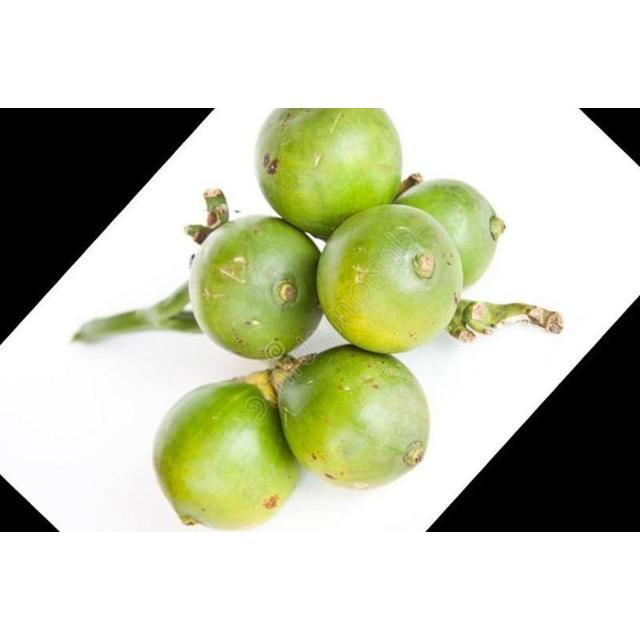good: (314, 206, 464, 356), (272, 355, 438, 485), (143, 390, 297, 530), (176, 220, 322, 358), (244, 108, 402, 224), (419, 164, 526, 292)
